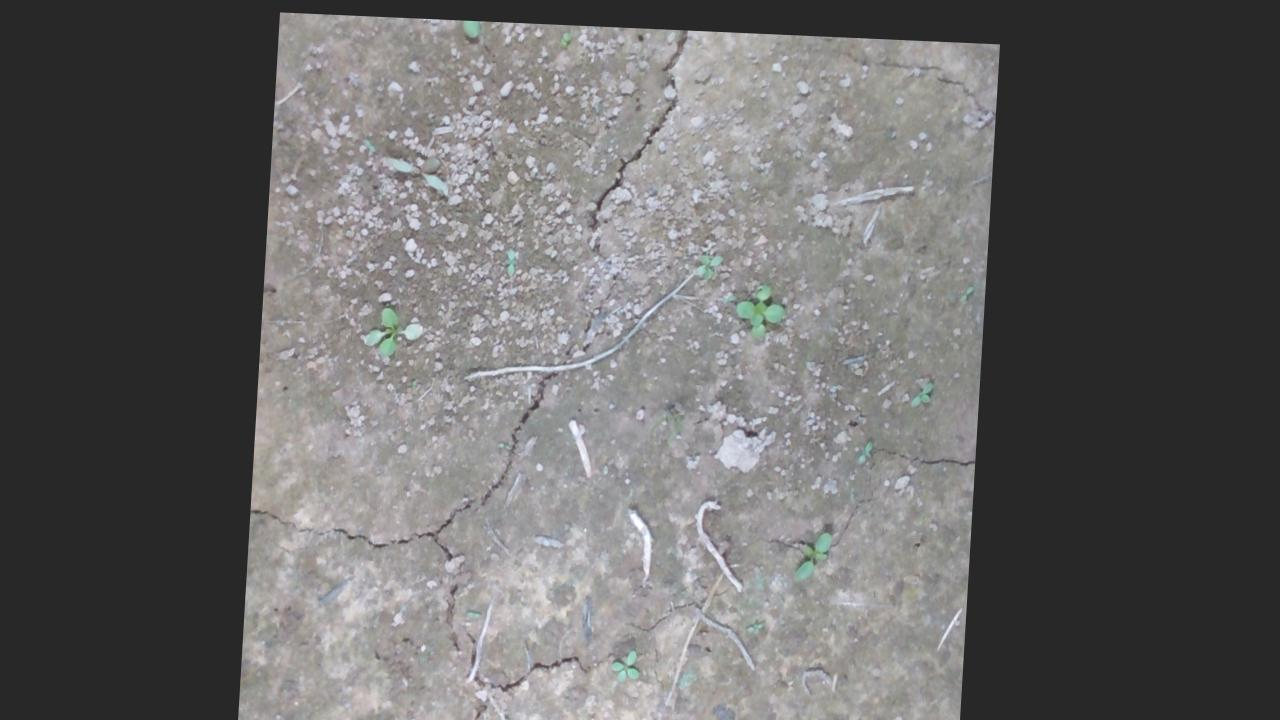weed: (732, 277, 794, 327), (794, 520, 841, 577), (367, 310, 409, 352), (613, 637, 651, 681), (693, 237, 729, 281), (910, 359, 945, 403), (450, 16, 485, 40), (860, 432, 882, 458)
